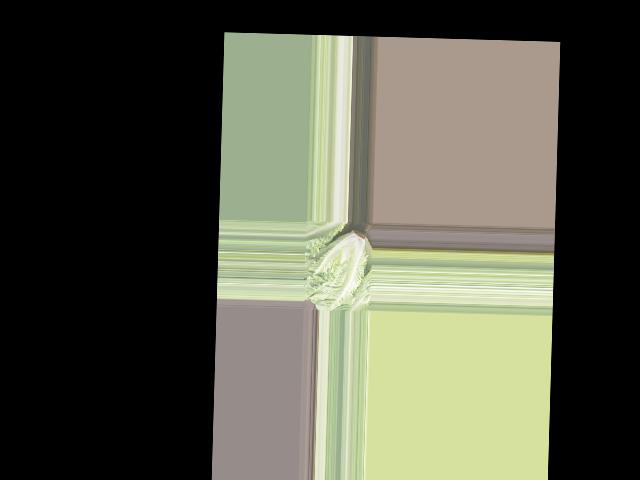lettuce: (308, 225, 373, 310)
